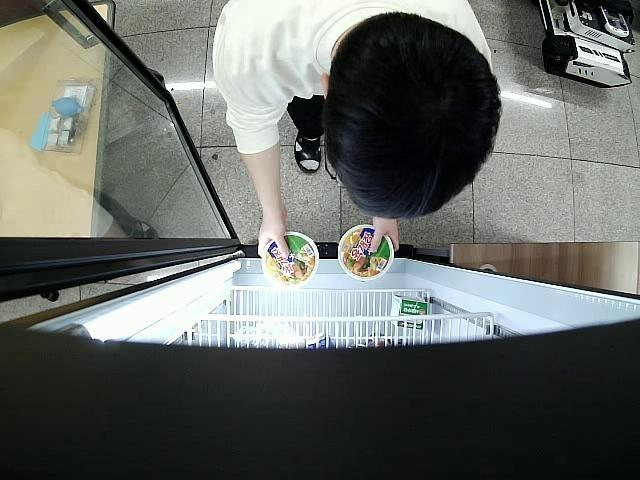09_yukGaeJang: (338, 224, 394, 282), (262, 231, 318, 286)
